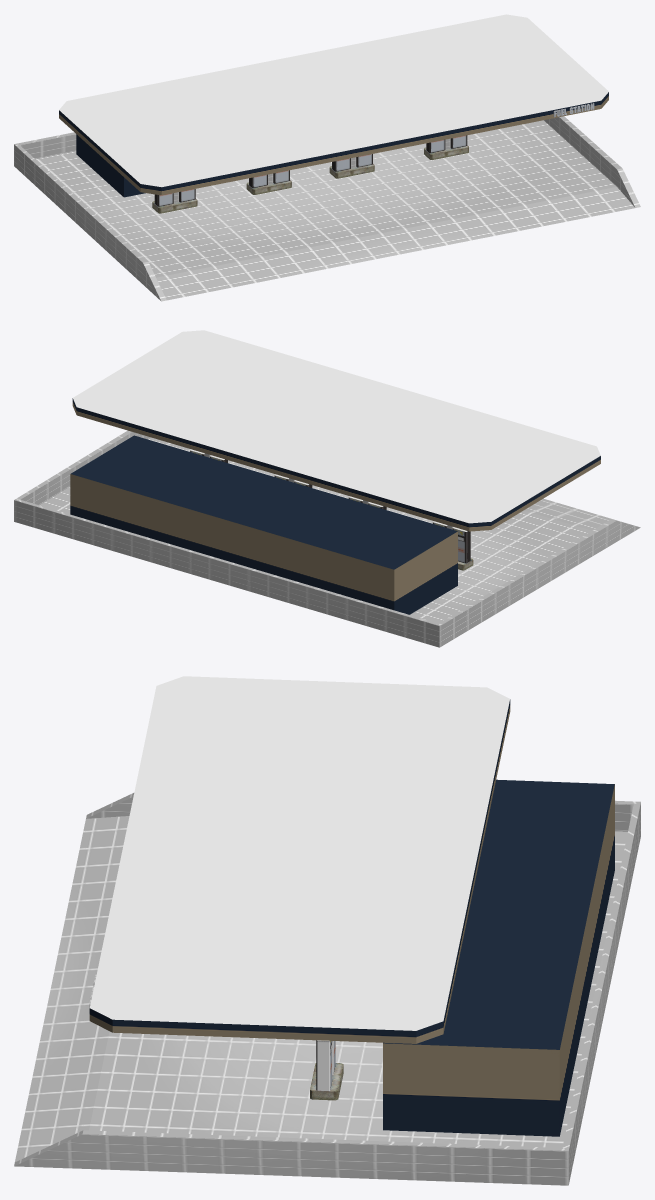
The model's file is Fuel station.FBX.
3 renders of one model, top to bottom at view 1: azimuth 30°, elevation 25°; view 2: azimuth 150°, elevation 25°; view 3: azimuth 270°, elevation 25°, orthographic. The views are drawn at different scales.
Visible parts, largest first — view 1: Fuel_station, Fuel_station_Floor, Fuel_station_Wall; view 2: Fuel_station, Fuel_station_Wall, Fuel_station_Floor; view 3: Fuel_station, Fuel_station_Floor, Fuel_station_Wall.
Boxes of the visible parts, x1,y1,x2,y2 form: Fuel_station: (59,14,608,213); Fuel_station_Floor: (36,120,634,300); Fuel_station_Wall: (14,116,640,301); Fuel_station: (70,330,600,614); Fuel_station_Wall: (14,430,640,647); Fuel_station_Floor: (39,437,630,623); Fuel_station: (89,676,614,1136); Fuel_station_Floor: (15,816,627,1161); Fuel_station_Wall: (14,793,640,1185).
Size of the model in its own units: 22.05 by 4.05 by 15.75.
Materials: 1 (1 with a texture image).
